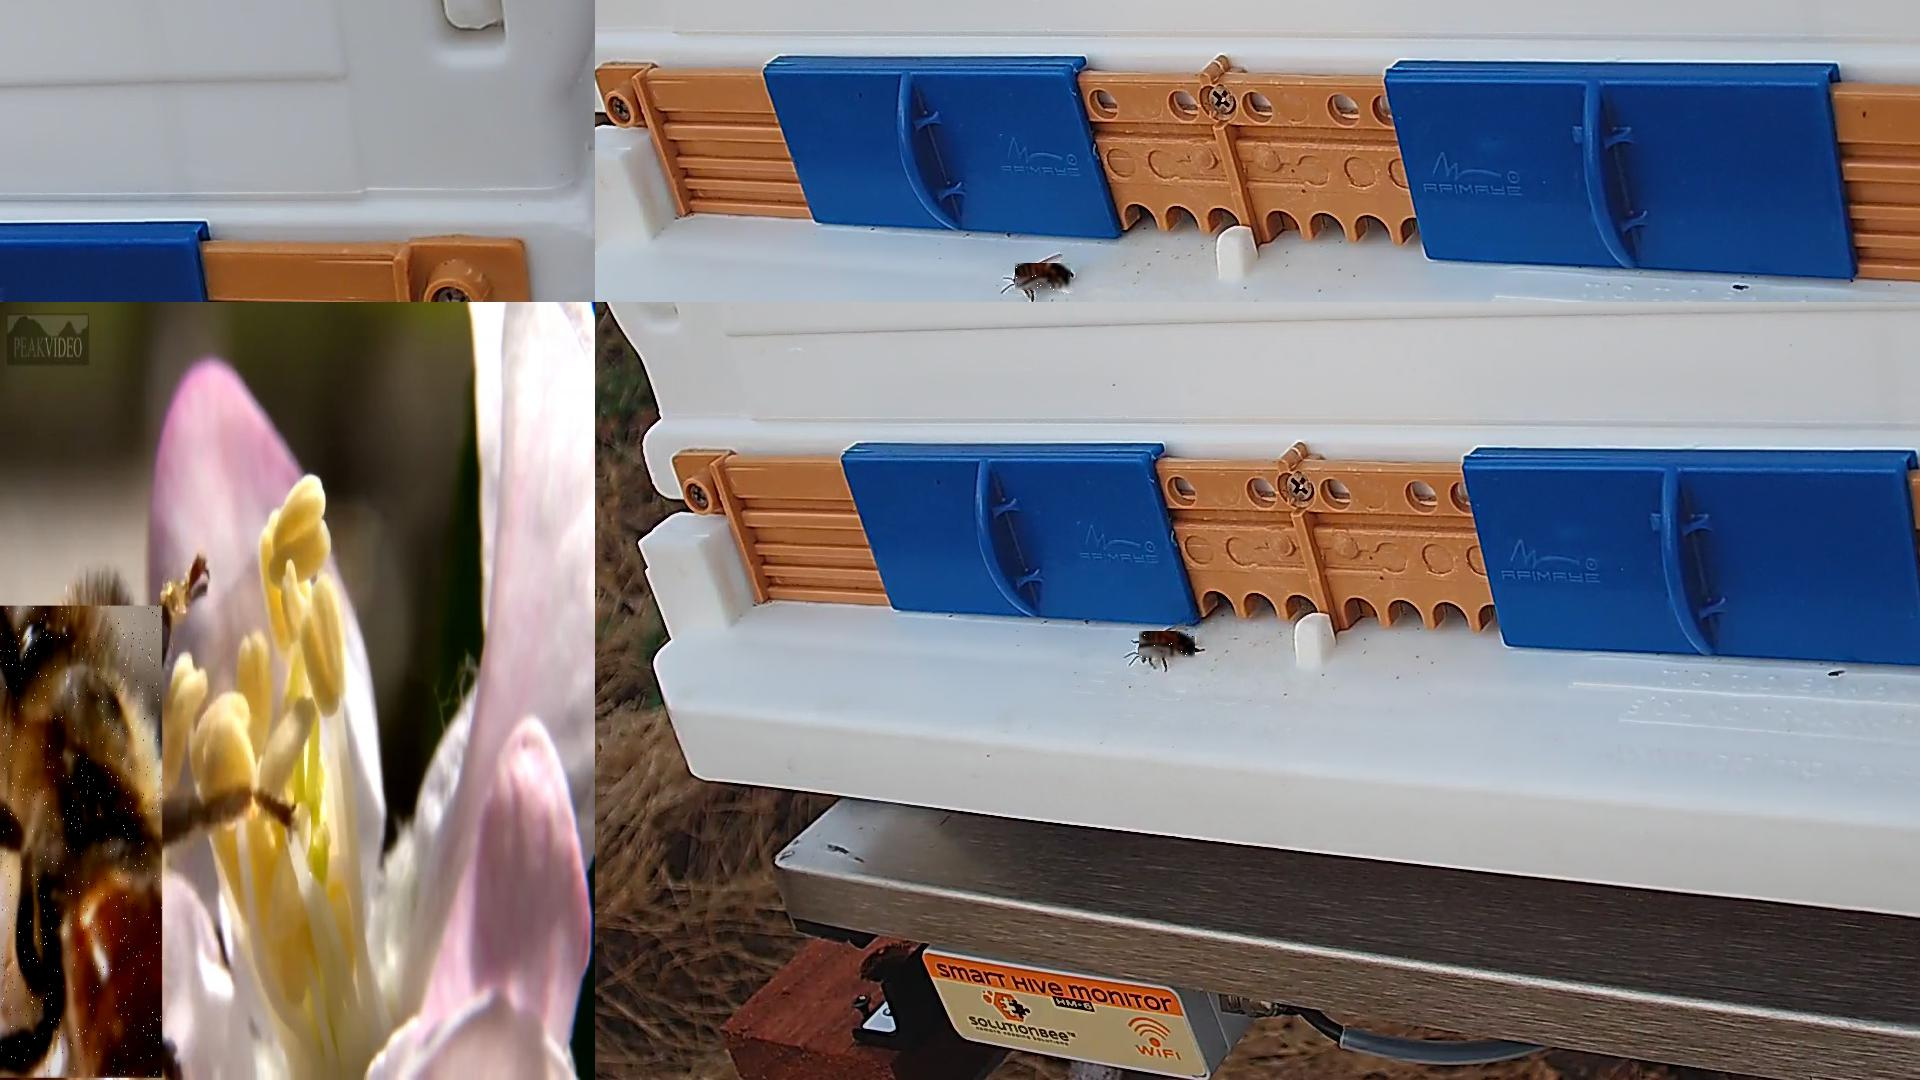bee: (0, 605, 162, 1079), (1015, 264, 1073, 293), (1139, 632, 1196, 661)
